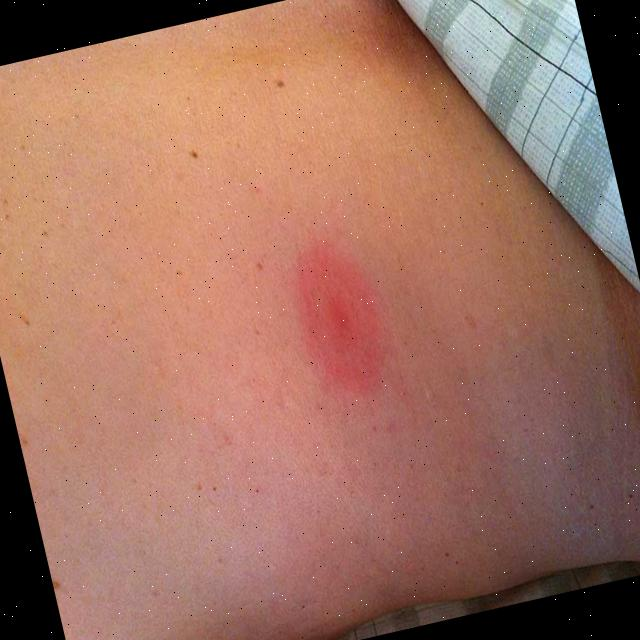kene: (275, 221, 409, 412)
